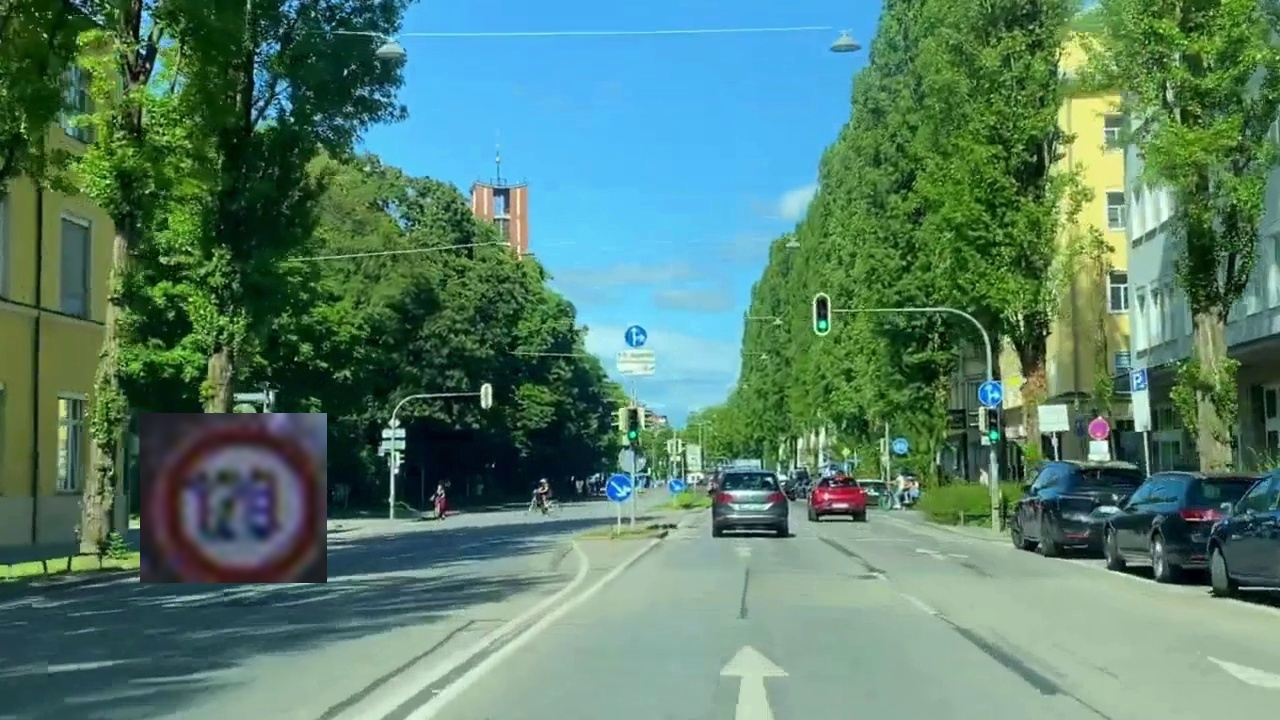Speed 120: (140, 413, 327, 583)
